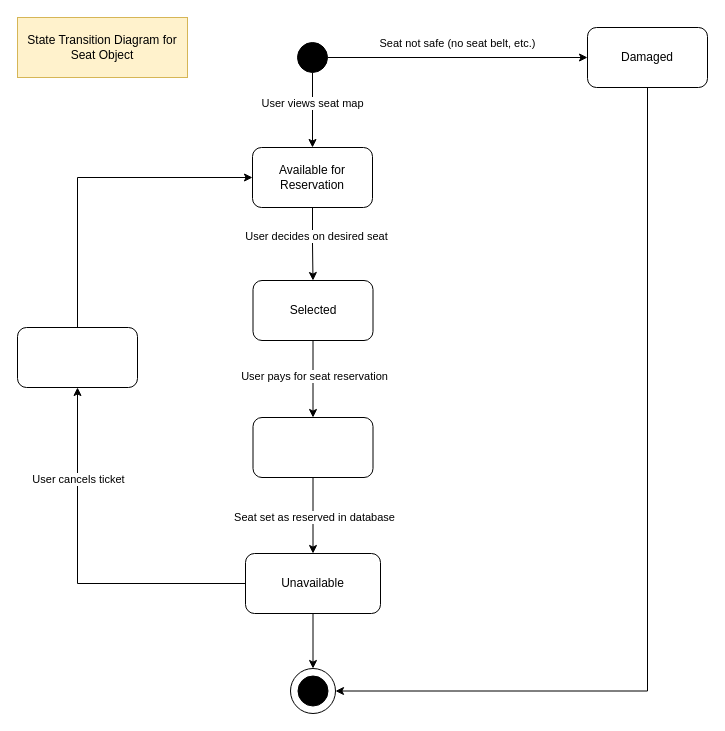
This 725x731 diagram has some shape labels left out. Each missing label, with the centre of its shape:
"Cancelled" belongs at point 77,357.
"Paid" belongs at point 312,447.
